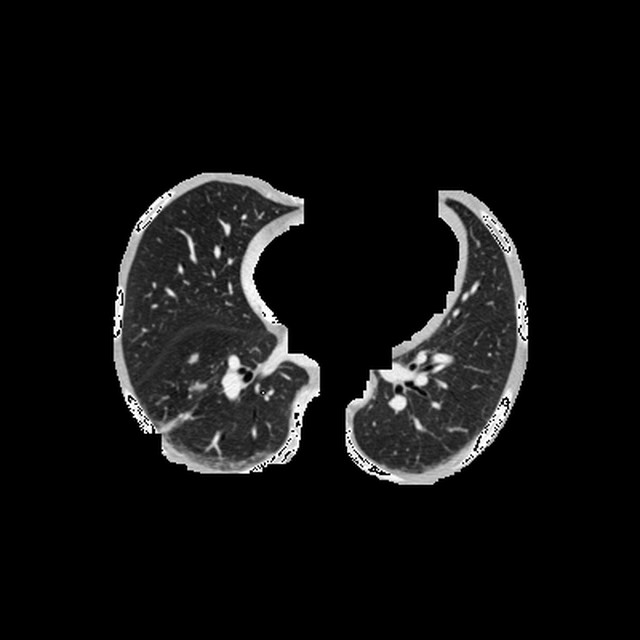PN: (187, 352, 197, 362)
